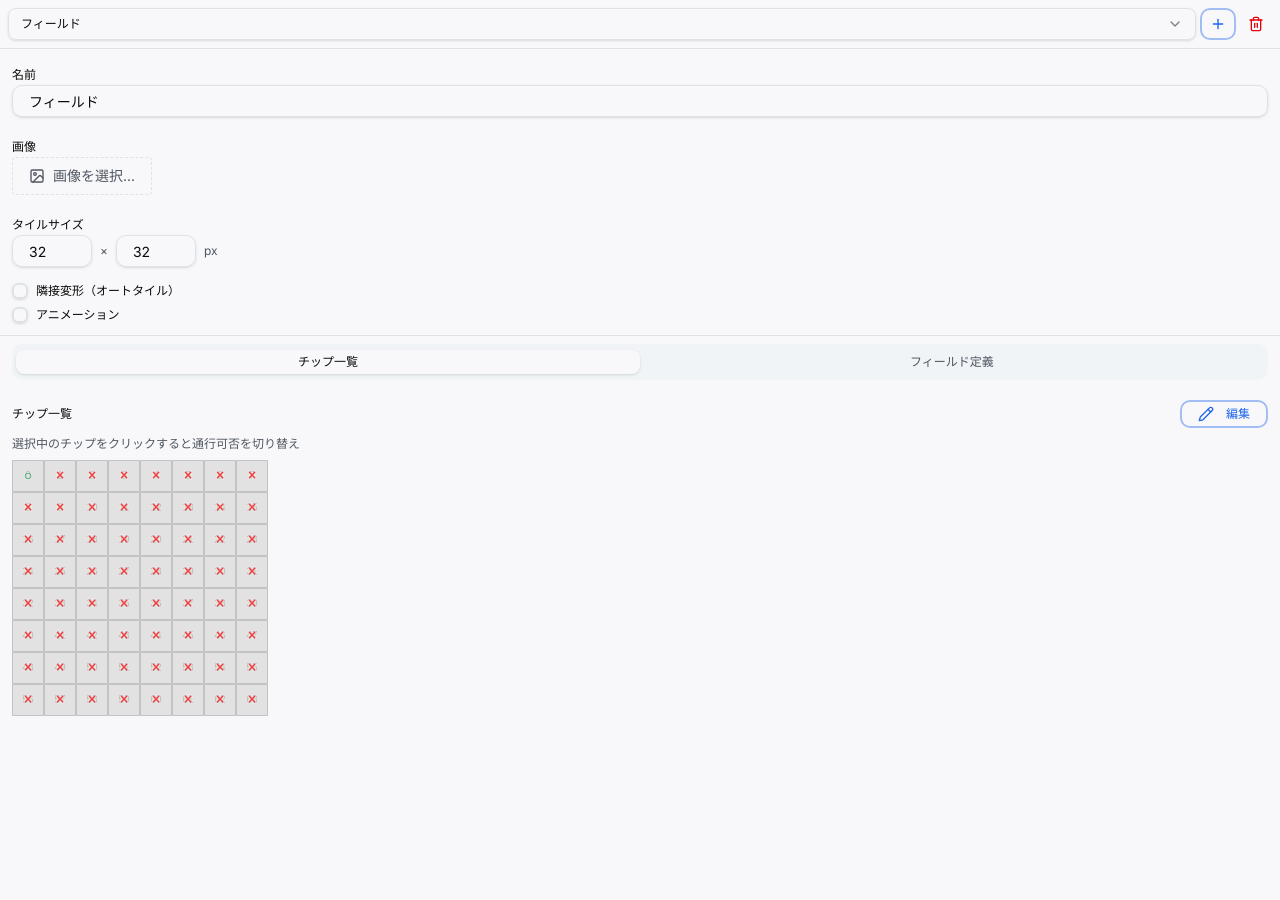
it: ChipsetEditor › チップ選択後に「編集」ボタンでモーダルが開き ChipPropertyEditor が表示される
The width and height of the screenshot is (1280, 900).
Click the drawing with test id "chip-grid" at coordinates (140, 588), box 12,460 -> 268,716
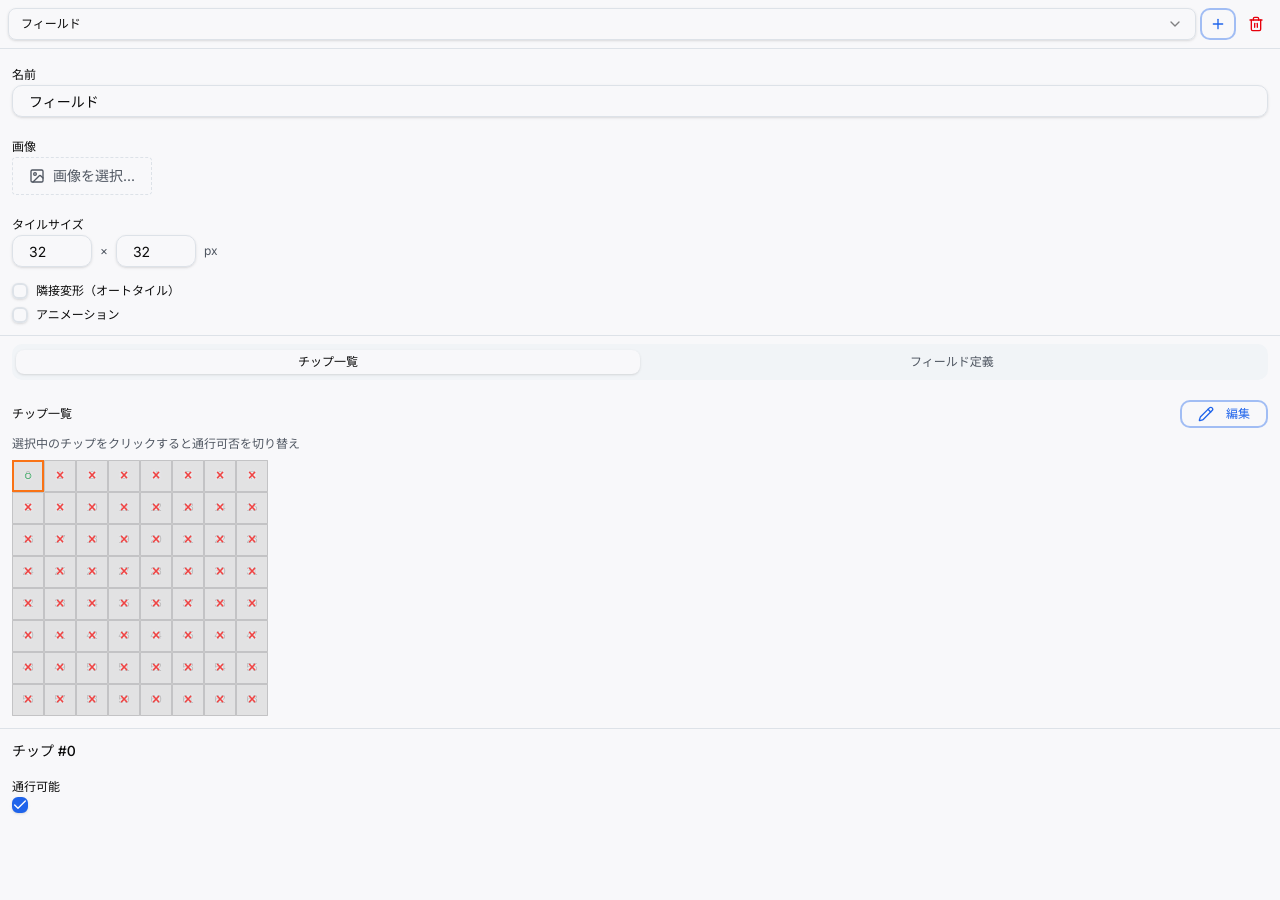
Result: the number of elements with test id "chip-property-editor" is 1 at 12,742 -> 76,813
Click the button "編集" at coordinates (1224, 414), box 1180,400 -> 1268,428
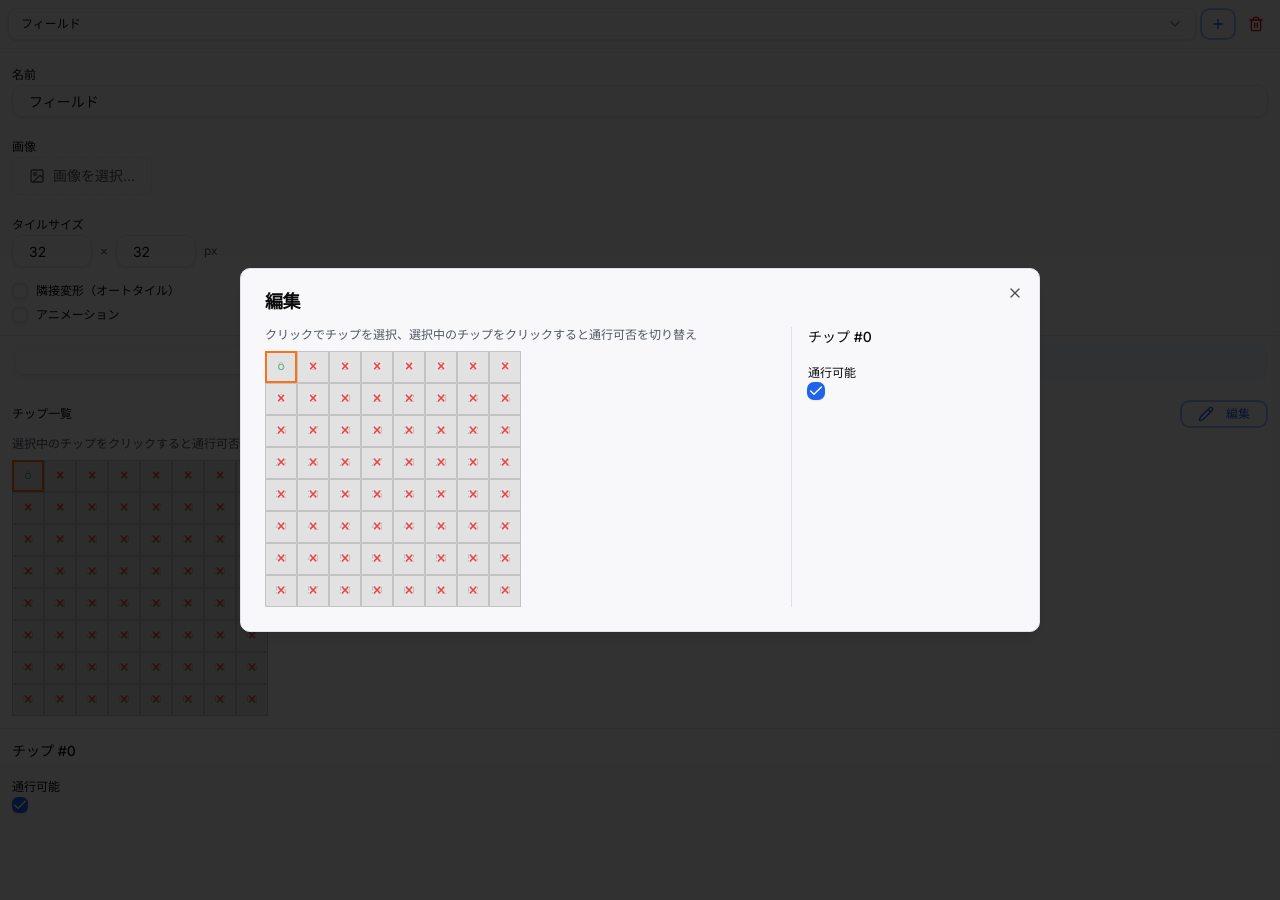
Result: the number of elements with test id "chip-property-editor" is 2 at 12,742 -> 76,813; 808,328 -> 872,399
